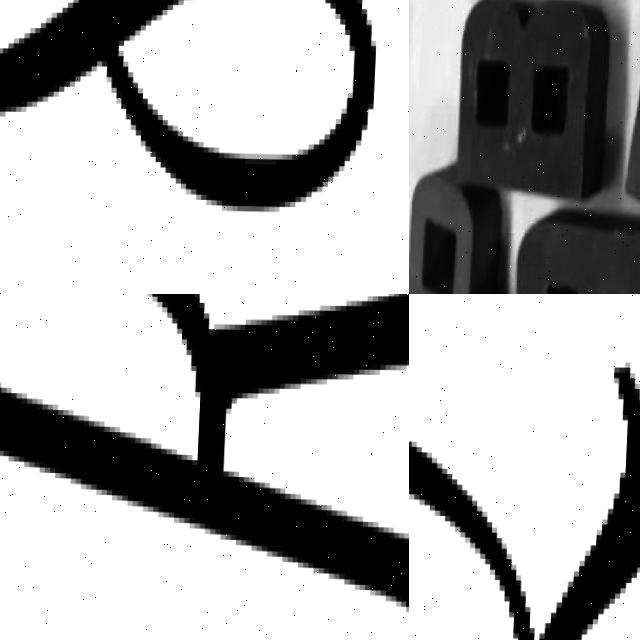8: (0, 0, 385, 215)
A: (515, 202, 640, 294)
B: (457, 0, 610, 188)
P: (409, 165, 508, 294)
Q: (409, 344, 640, 640)
R: (0, 294, 409, 640)
